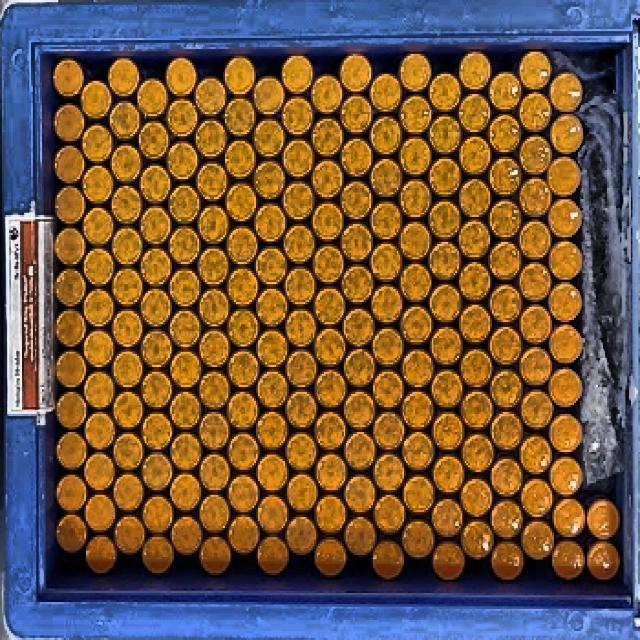vial: (549, 72, 583, 113), (549, 456, 583, 497), (490, 499, 524, 540), (586, 499, 620, 540), (281, 55, 315, 95), (369, 73, 403, 113), (399, 95, 433, 135), (489, 326, 523, 366), (460, 390, 494, 430), (550, 115, 584, 155), (547, 199, 581, 239), (519, 304, 553, 344), (549, 324, 583, 364), (520, 390, 554, 430), (431, 411, 465, 451), (490, 457, 524, 497), (490, 411, 524, 451), (519, 434, 553, 474), (521, 520, 555, 560), (551, 540, 585, 580), (547, 156, 580, 197), (311, 73, 343, 115), (519, 135, 553, 174), (401, 519, 435, 558), (586, 542, 620, 581), (81, 124, 114, 164), (110, 144, 143, 184), (166, 141, 199, 181), (281, 96, 314, 136), (311, 118, 344, 158), (311, 159, 344, 199), (311, 202, 344, 242), (340, 95, 373, 135), (370, 200, 403, 240), (371, 327, 404, 367), (400, 306, 433, 346), (430, 326, 463, 366), (401, 390, 434, 430), (227, 514, 260, 554), (227, 474, 260, 514), (256, 453, 289, 493), (256, 494, 289, 534), (314, 537, 347, 577), (373, 494, 406, 534), (461, 433, 494, 473), (460, 477, 493, 517), (461, 520, 494, 560), (195, 118, 227, 159), (429, 72, 461, 113), (519, 92, 551, 133), (549, 367, 581, 408), (141, 451, 173, 492), (549, 413, 581, 454), (429, 285, 463, 323), (487, 115, 521, 153), (489, 285, 523, 323), (519, 347, 553, 385), (80, 80, 113, 119), (107, 58, 140, 97), (226, 268, 259, 307), (340, 54, 373, 93), (370, 116, 403, 155), (340, 138, 373, 177), (370, 158, 403, 197), (340, 181, 373, 220), (370, 242, 403, 281), (341, 265, 374, 304), (401, 349, 434, 388), (460, 349, 493, 388), (490, 369, 523, 408), (170, 516, 203, 555), (286, 473, 319, 512), (491, 542, 524, 581), (53, 58, 85, 98), (83, 248, 115, 288), (83, 329, 115, 369), (137, 78, 169, 118), (109, 101, 141, 141), (111, 185, 143, 225), (111, 226, 143, 266), (141, 329, 173, 369), (111, 349, 143, 389), (141, 370, 173, 410), (197, 205, 229, 245), (197, 246, 229, 286), (169, 309, 201, 349), (224, 55, 256, 95), (253, 76, 285, 116), (224, 98, 256, 138), (254, 203, 286, 243), (255, 246, 287, 286), (227, 349, 259, 389), (284, 266, 316, 306), (314, 286, 346, 326), (343, 307, 375, 347), (429, 115, 461, 155), (399, 136, 431, 176), (399, 179, 431, 219), (429, 200, 461, 240), (459, 50, 491, 90), (489, 72, 521, 112), (459, 93, 491, 133), (459, 136, 491, 176), (489, 156, 521, 196), (489, 199, 521, 239), (459, 304, 491, 344), (519, 50, 551, 90), (519, 177, 551, 217), (519, 220, 551, 260), (549, 283, 581, 323), (199, 535, 231, 575), (257, 535, 289, 575), (285, 431, 317, 471), (314, 411, 346, 451), (315, 453, 347, 493), (315, 494, 347, 534), (344, 431, 376, 471), (344, 474, 376, 514), (344, 517, 376, 557), (373, 411, 405, 451), (373, 453, 405, 493), (373, 540, 405, 580), (403, 431, 435, 471), (403, 474, 435, 514), (433, 454, 465, 494), (140, 248, 173, 286), (256, 370, 289, 408), (226, 392, 259, 430), (431, 499, 464, 537), (521, 479, 554, 517), (139, 164, 171, 203), (111, 268, 143, 307), (169, 268, 201, 307), (283, 139, 315, 178), (283, 181, 315, 220), (285, 349, 317, 388), (341, 223, 373, 262), (371, 285, 403, 324), (429, 158, 461, 197), (431, 369, 463, 408), (459, 262, 491, 301), (519, 262, 551, 301), (84, 411, 116, 450), (85, 535, 117, 574), (141, 411, 173, 450), (285, 516, 317, 555), (433, 542, 465, 581), (553, 499, 585, 538), (54, 102, 85, 142), (55, 185, 86, 225), (139, 121, 170, 161), (140, 205, 171, 245), (195, 76, 226, 116), (166, 98, 197, 138), (196, 162, 227, 202), (169, 185, 200, 225), (199, 370, 230, 410), (254, 118, 285, 158), (225, 139, 256, 179), (225, 182, 256, 222), (284, 225, 315, 265), (313, 245, 344, 285), (373, 370, 404, 410), (344, 390, 375, 430), (400, 263, 431, 303), (459, 219, 490, 259), (56, 431, 87, 471), (84, 451, 115, 491), (56, 514, 87, 554), (113, 431, 144, 471), (143, 494, 174, 534), (114, 514, 145, 554), (143, 535, 174, 575), (199, 453, 230, 493), (199, 494, 230, 534), (54, 228, 86, 266), (83, 289, 115, 327), (111, 309, 143, 347), (165, 58, 197, 96), (227, 309, 259, 347), (314, 329, 346, 367), (285, 390, 317, 428), (399, 54, 431, 92), (399, 222, 431, 260), (429, 242, 461, 280), (459, 179, 491, 217), (489, 242, 521, 280), (549, 242, 581, 280), (84, 494, 116, 532), (227, 433, 259, 471), (54, 145, 85, 184), (83, 165, 114, 204), (83, 207, 114, 246), (55, 268, 86, 307), (140, 288, 171, 327), (169, 226, 200, 265), (170, 350, 201, 389), (226, 226, 257, 265), (256, 288, 287, 327), (315, 369, 346, 408), (113, 473, 144, 512), (170, 473, 201, 512), (199, 411, 230, 450), (256, 411, 287, 450), (55, 309, 86, 347), (84, 372, 115, 410), (56, 392, 87, 430), (113, 392, 144, 430), (199, 289, 230, 327), (199, 329, 230, 367), (170, 392, 201, 430), (254, 161, 285, 199), (256, 329, 287, 367), (285, 309, 316, 347), (344, 349, 375, 387), (56, 474, 87, 512), (170, 433, 201, 471), (56, 350, 86, 389)
